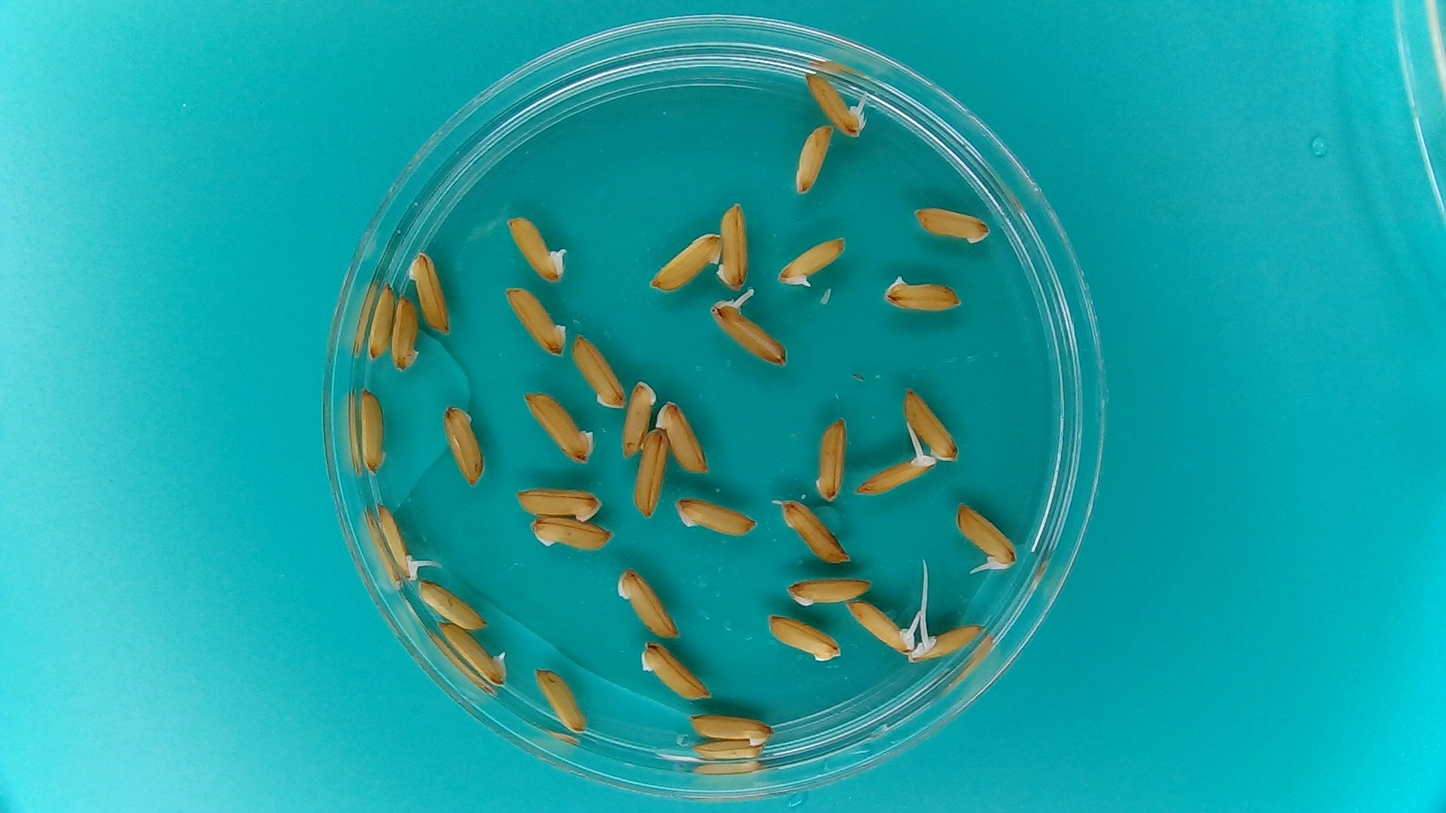no: (522, 388, 597, 467), (615, 564, 682, 642), (438, 622, 510, 691), (504, 285, 570, 360), (779, 498, 850, 565), (649, 232, 725, 293), (637, 640, 710, 702), (505, 212, 568, 283), (570, 333, 628, 410), (903, 386, 961, 462), (442, 404, 488, 492), (656, 399, 709, 473), (407, 250, 453, 335), (776, 235, 847, 290), (416, 577, 487, 630), (533, 667, 588, 735), (767, 614, 843, 663), (880, 269, 962, 313), (674, 494, 756, 538), (912, 203, 993, 247), (715, 199, 752, 290), (515, 486, 606, 523), (633, 428, 669, 519), (355, 385, 389, 475), (529, 516, 616, 551), (794, 124, 835, 197), (813, 416, 847, 504), (689, 713, 775, 746), (364, 280, 397, 363), (622, 380, 657, 458), (389, 295, 423, 373), (786, 577, 874, 605), (691, 738, 767, 759)
yes: (707, 295, 789, 367), (803, 68, 869, 139), (955, 504, 1017, 569), (847, 599, 915, 653), (909, 618, 983, 662), (374, 507, 418, 581), (859, 453, 936, 495)
